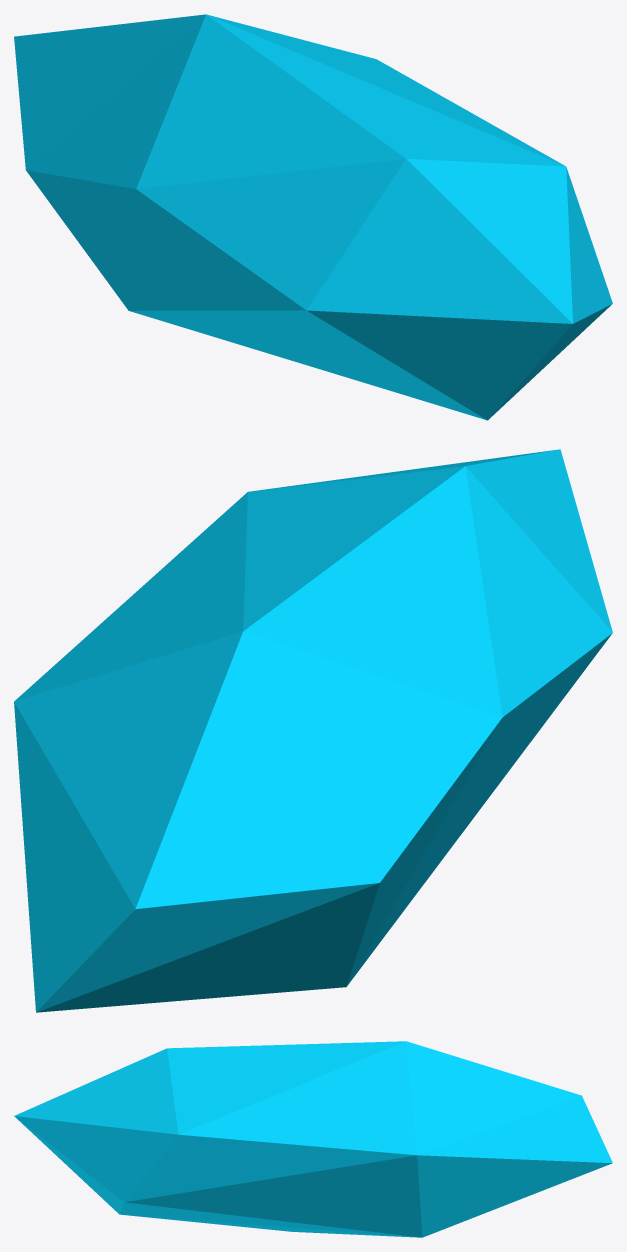
The model's file is cristalgirado.fbx.
The picture shows the model from 3 angles, top to bottom: view 1: azimuth 30°, elevation 25°; view 2: azimuth 150°, elevation 25°; view 3: azimuth 270°, elevation 25°; orthographic projection. The views are drawn at different scales.
Visible parts, largest first — view 1: cristal; view 2: cristal; view 3: cristal.
Part boxes in pixels (x1,y1,x2,y2): cristal: [14, 14, 612, 420]; cristal: [14, 449, 612, 1012]; cristal: [14, 1041, 612, 1237].
Size of the model in its own units: 18.32 by 15.62 by 46.32.
